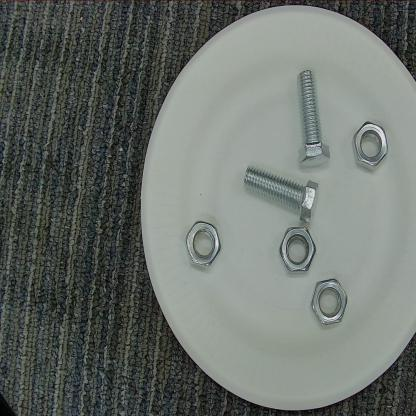FOD: (238, 164, 323, 227), (288, 67, 334, 172), (349, 118, 392, 176), (182, 216, 224, 274), (310, 274, 350, 328), (278, 224, 317, 277)
